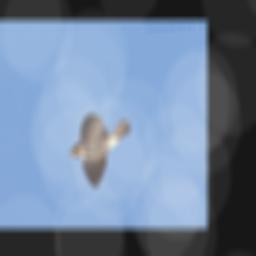Swallow: (64, 110, 135, 191)
